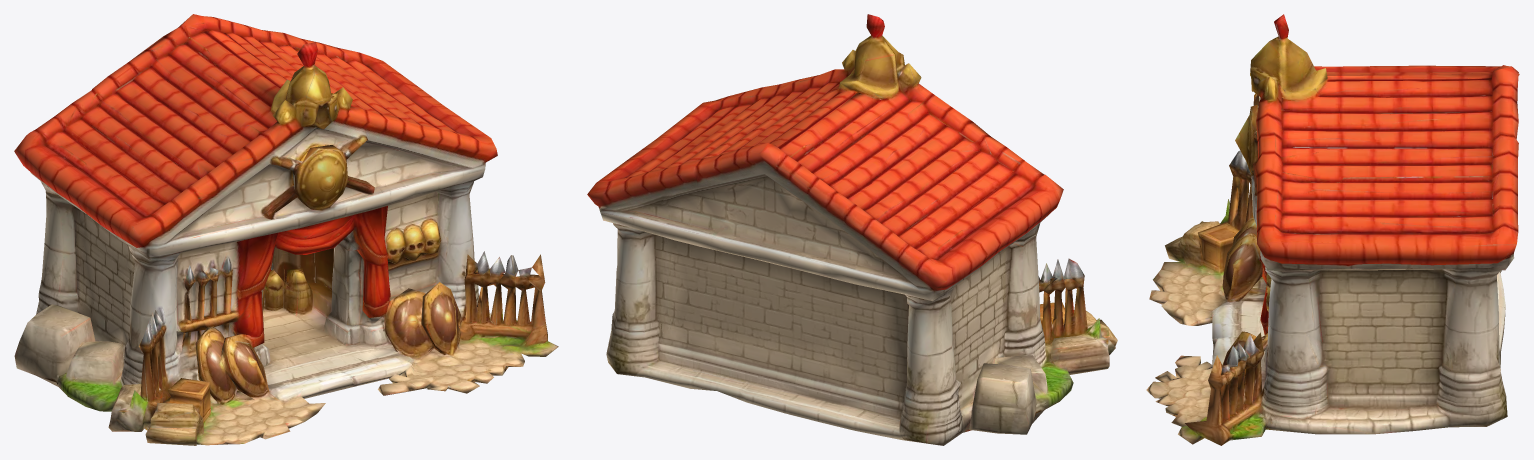
The model's file is armory2.glb.
The picture shows the model from 3 angles, left to right: view 1: azimuth 30°, elevation 25°; view 2: azimuth 150°, elevation 25°; view 3: azimuth 270°, elevation 25°; orthographic projection. The views are drawn at different scales.
Visible parts, largest first — view 1: Mesh1.0; view 2: Mesh1.0; view 3: Mesh1.0.
Part boxes in pixels (x1,y1,x2,y2): Mesh1.0: [14, 14, 558, 445]; Mesh1.0: [587, 14, 1117, 445]; Mesh1.0: [1146, 14, 1519, 445].
Size of the model in its own units: 4.22 by 3 by 3.09.
1 material, 1 textured.
